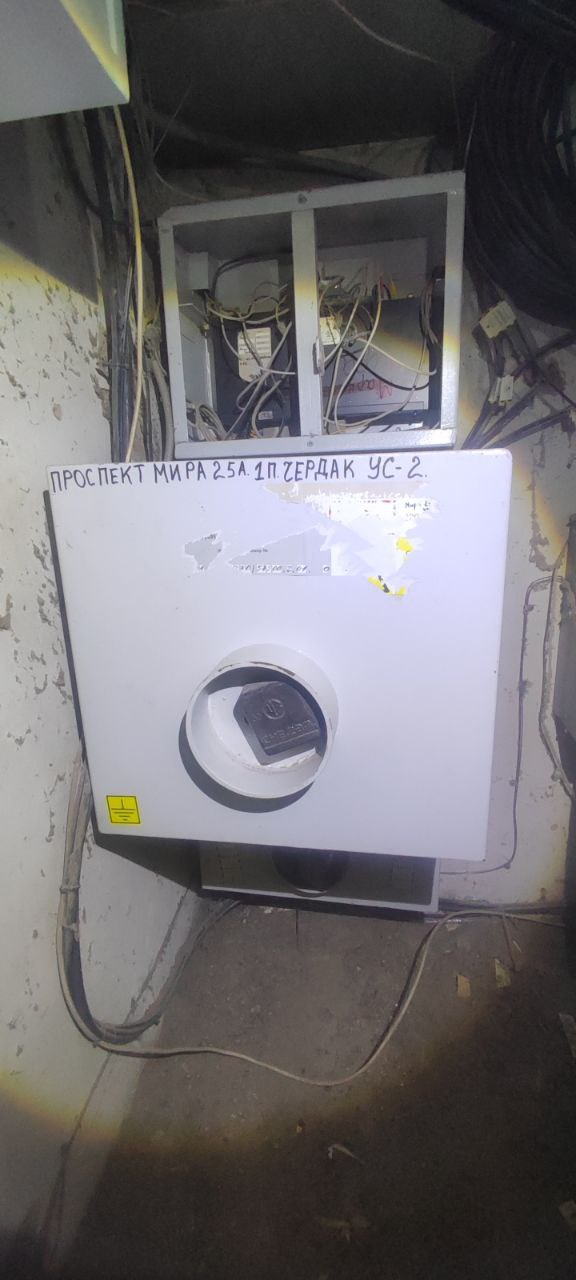shta-9: (42, 445, 519, 865)
